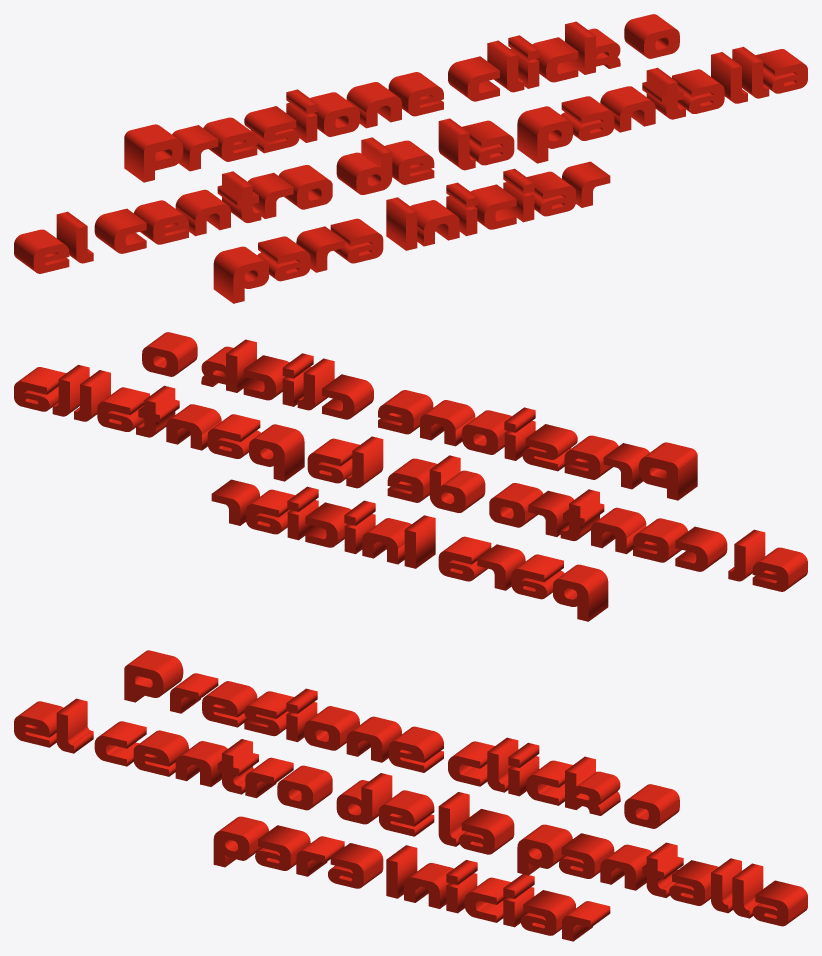
File: texto_inicio.glb
3 renders of one model, top to bottom at view 1: azimuth 30°, elevation 25°; view 2: azimuth 150°, elevation 25°; view 3: azimuth 330°, elevation 25°, orthographic.
Parts seen in each view (by area): view 1: Text; view 2: Text; view 3: Text.
Part boxes in pixels (x1,y1,x2,y2): Text: (14,14,807,303); Text: (14,332,807,621); Text: (14,650,807,941).
Size of the model in its own units: 12.26 by 2.72 by 0.54.
